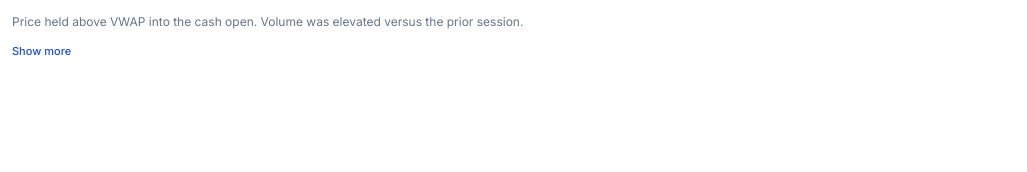
Test: CollapsibleCommentary › collapses longer commentary behind an accessible expand control
Click the button with aria-label "Expand AI read for AAPL" at coordinates (42, 52), box [12,36,71,68]
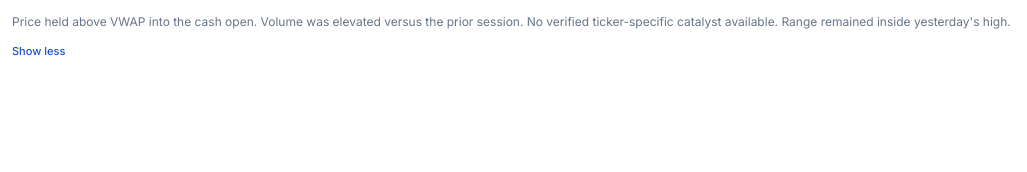
Check: the button with aria-label "Collapse AI read for AAPL" is expanded, box [12,36,65,68]
Check: the text "Range remained inside" is shown, box [12,14,1011,29]
